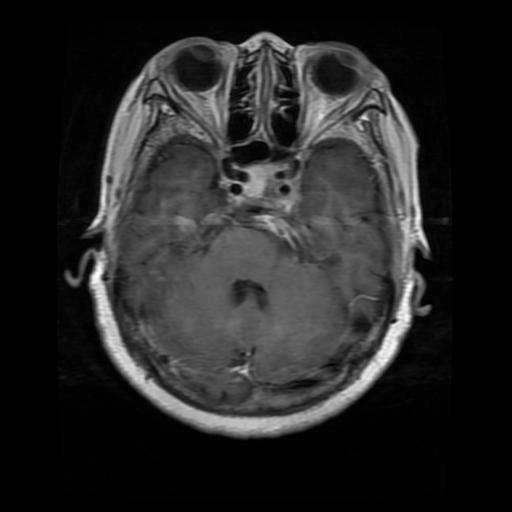Tumour-Pituitary: (216, 160, 302, 218)
